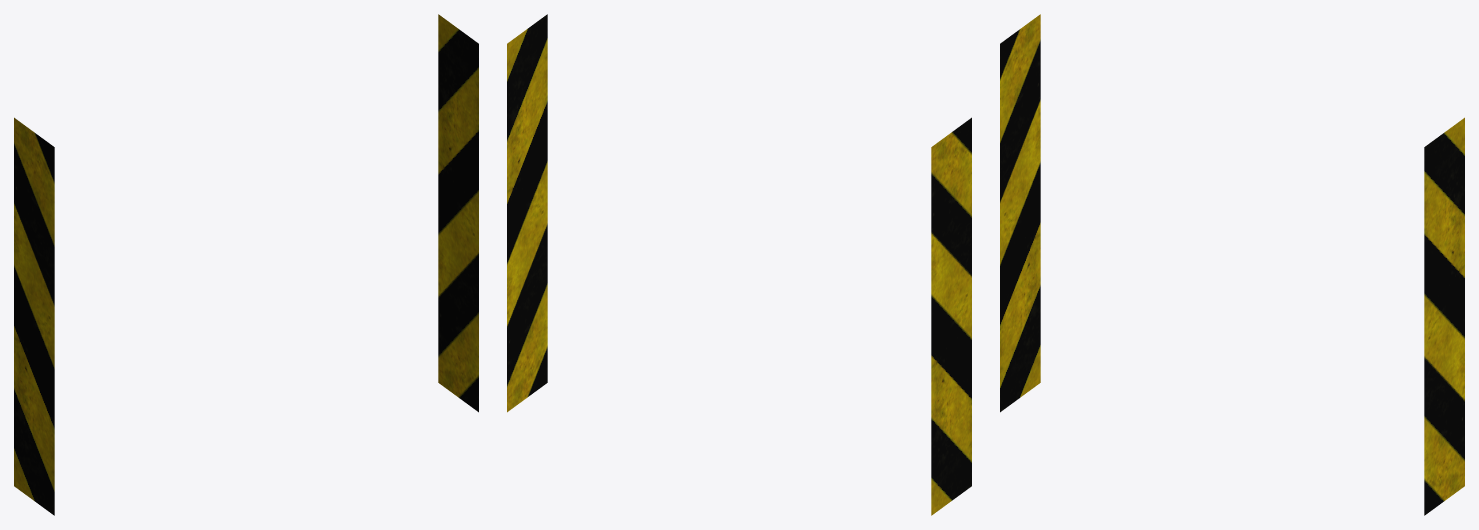
The model's file is machine3_stripes.fbx.
3 views of the same model, side by side, from view 1: azimuth 30°, elevation 25°; view 2: azimuth 150°, elevation 25°; view 3: azimuth 330°, elevation 25° (orthographic).
Parts seen in each view (by area): view 1: Plane_424; view 2: Plane_424; view 3: Plane_424.
Boxes of the visible parts, <box> form: Plane_424: <box>14,14,478,515</box>; Plane_424: <box>507,14,971,515</box>; Plane_424: <box>1000,14,1464,515</box>.
Bounding box in the file's own units: 6.02 × 5 × 1.
Materials: 1 (1 with a texture image).
